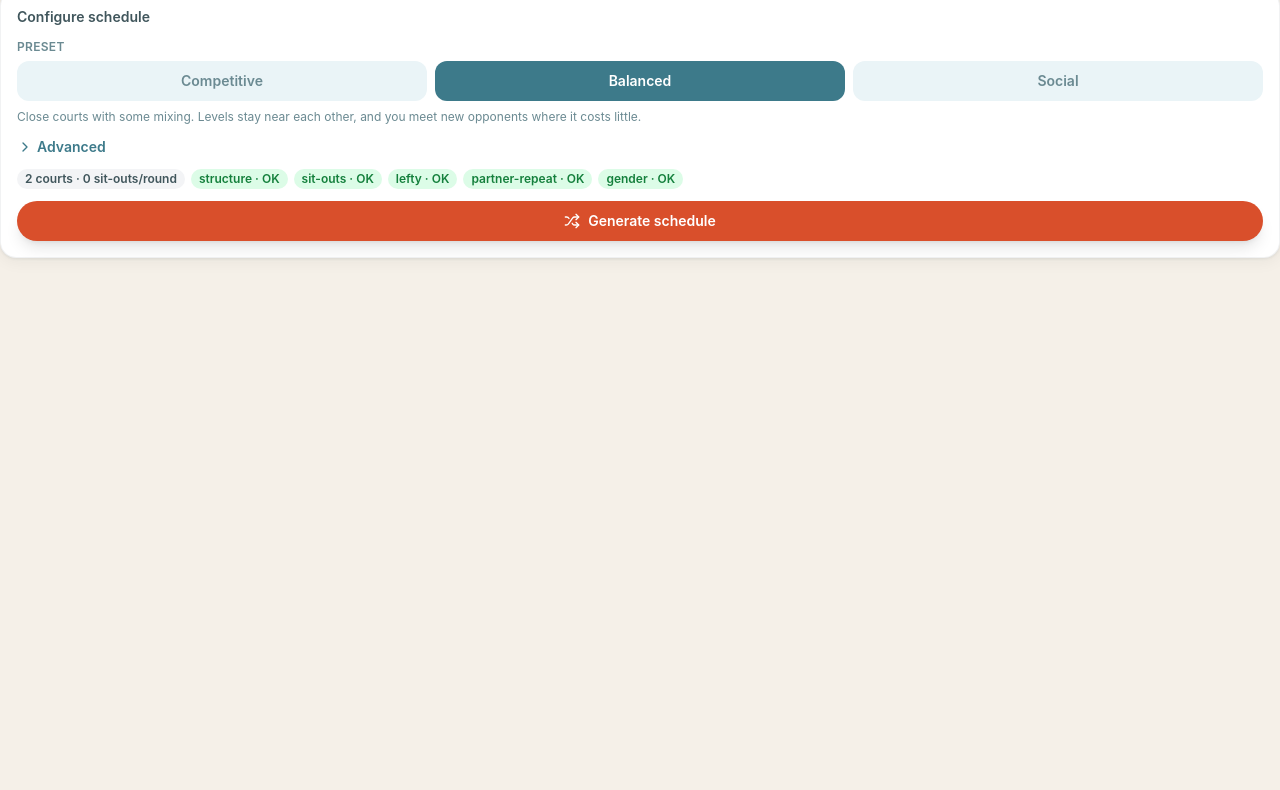
it: MatchmakingContainer — generate feedback (M3.6 Finding 4) › compare opens the overlay with no alternative until the admin generates one
What coordinates should you click on to do the following:
click the button "Generate schedule"
I would click on:
 (640, 221)
Its box is [17,201,1263,241].
(page scrolled)
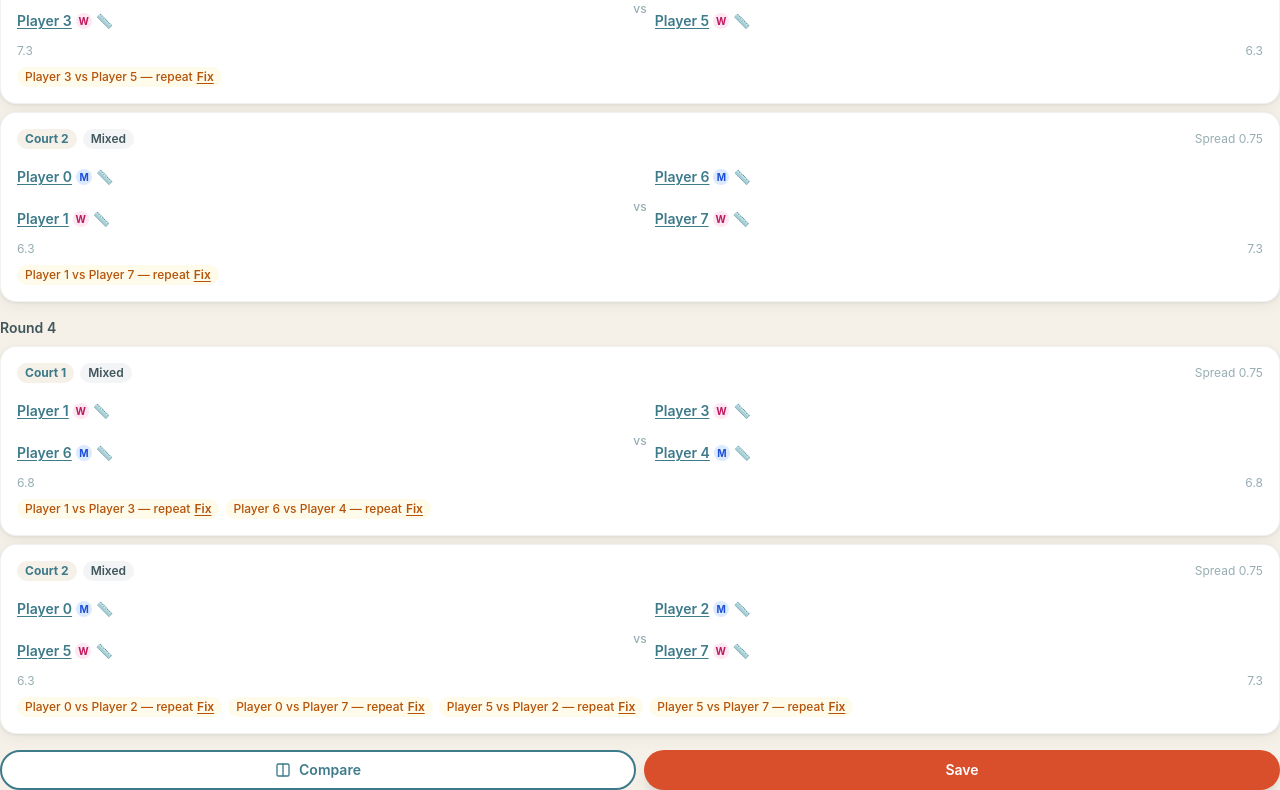
Now the button "Compare" is shown
What coordinates should you click on to do the following:
click the button "Compare"
I would click on:
 (318, 770)
Its box is [0,750,636,789].
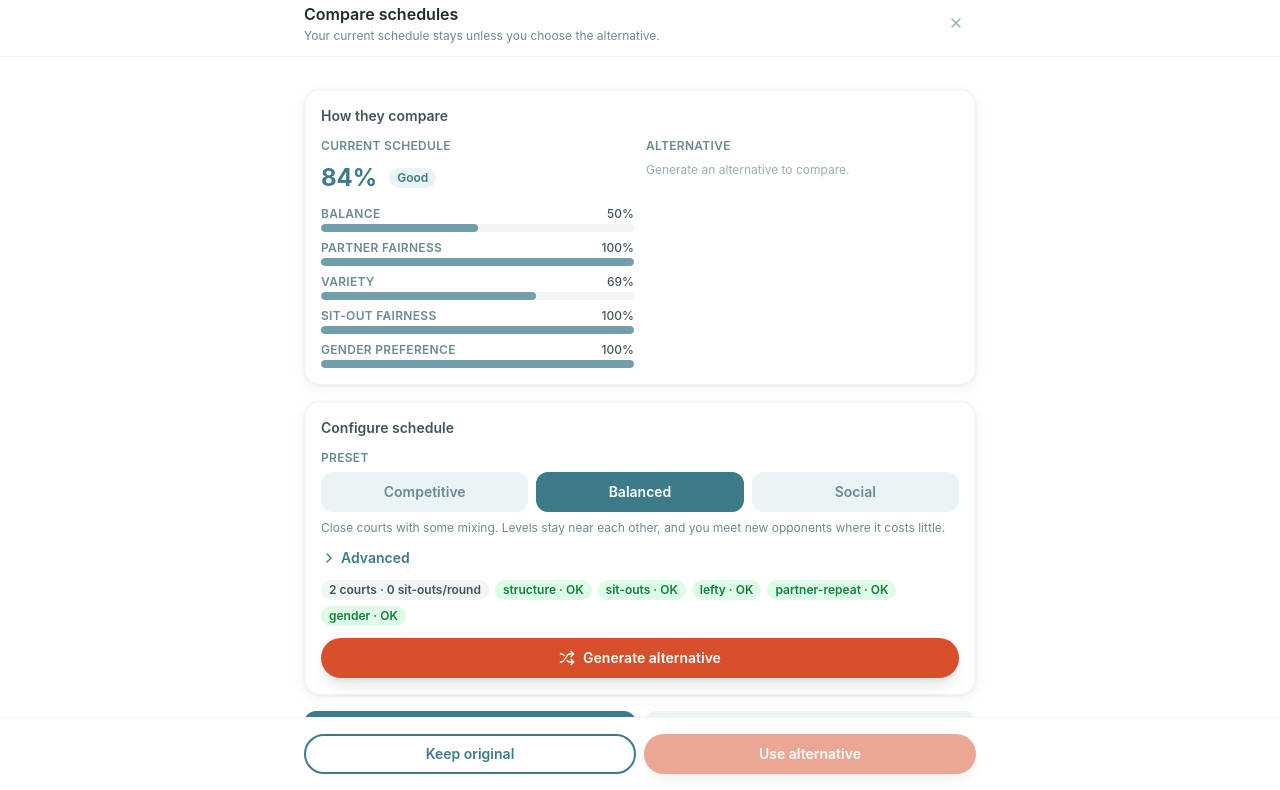
Now the button "Use alternative" is disabled, box [644,734,976,774]
What coordinates should you click on to do the following:
click the button "Generate alternative"
I would click on:
 (640, 658)
Its box is [321,638,959,678].
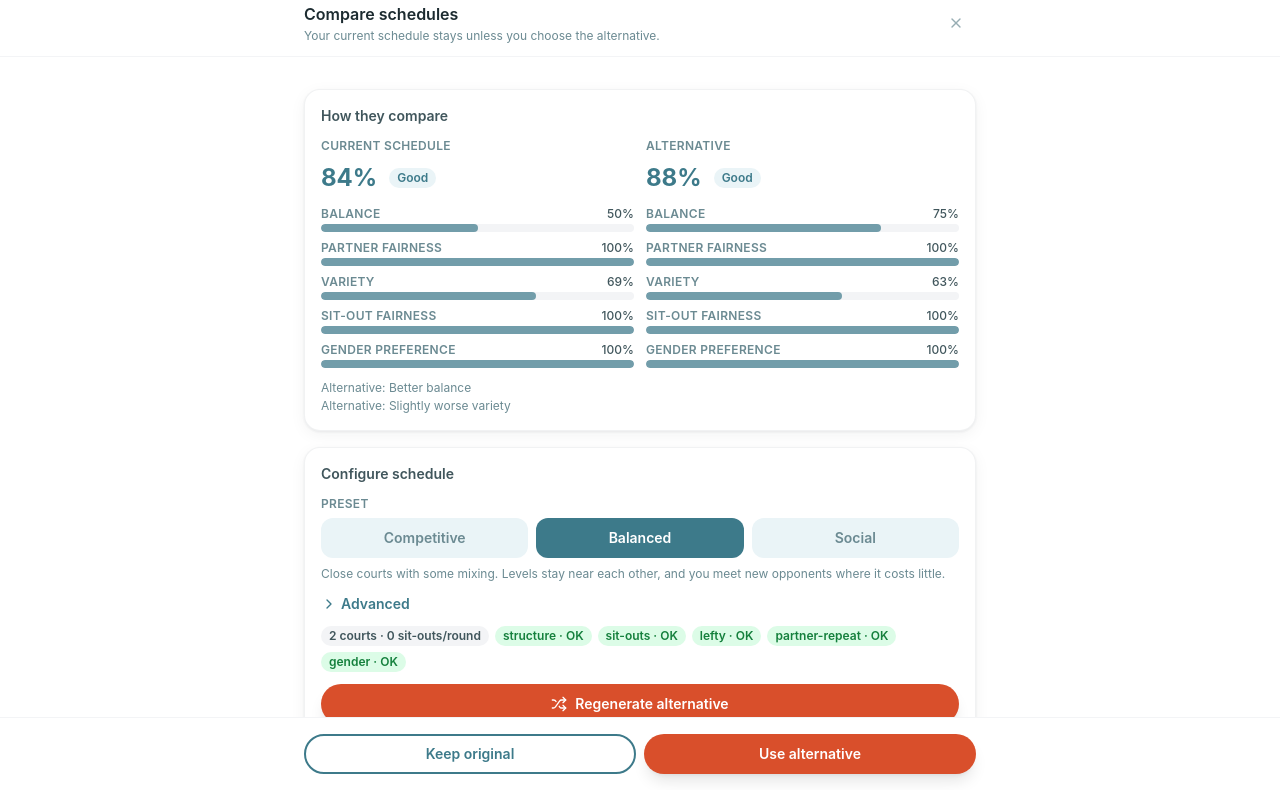
Now the button "Use alternative" is enabled, box [644,734,976,774]
